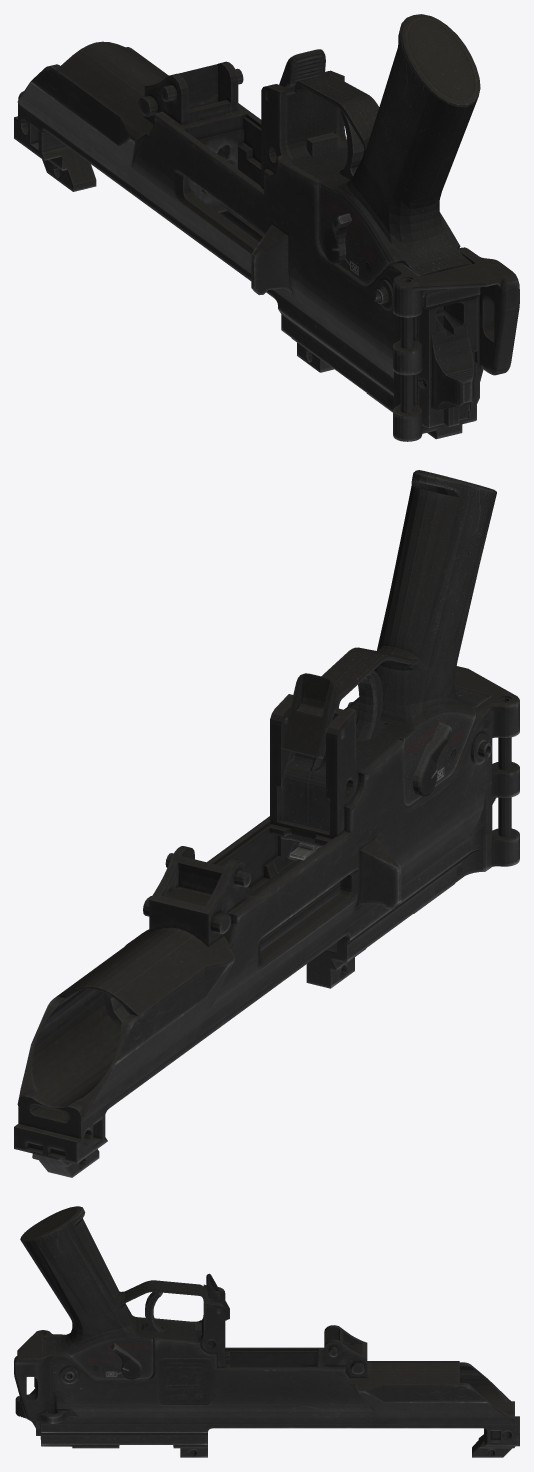
3 renders of one model, top to bottom at view 1: azimuth 30°, elevation 25°; view 2: azimuth 150°, elevation 25°; view 3: azimuth 270°, elevation 25°, orthographic. The views are drawn at different scales.
Parts seen in each view (by area): view 1: TW_623063e994fc3f7b302a9696_PZ_Import; view 2: TW_623063e994fc3f7b302a9696_PZ_Import; view 3: TW_623063e994fc3f7b302a9696_PZ_Import.
Boxes of the visible parts, x1,y1,x2,y2 form: TW_623063e994fc3f7b302a9696_PZ_Import: (14,14,519,441); TW_623063e994fc3f7b302a9696_PZ_Import: (14,470,519,1177); TW_623063e994fc3f7b302a9696_PZ_Import: (14,1206,519,1457).
Size of the model in its own units: 0.0364 by 0.2153 by 0.1153.
Materials: 1 (1 with a texture image).
